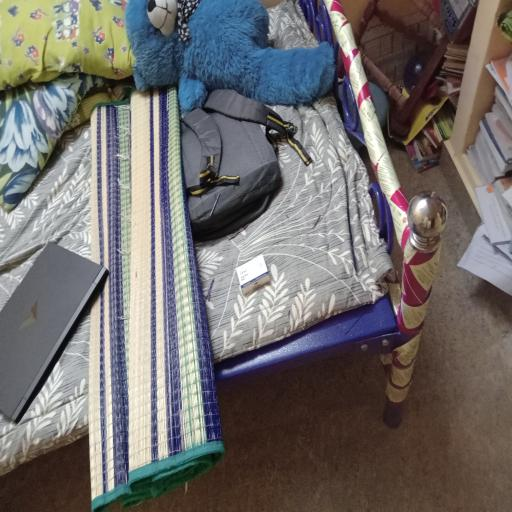Dove`1: (228, 254, 275, 298)
